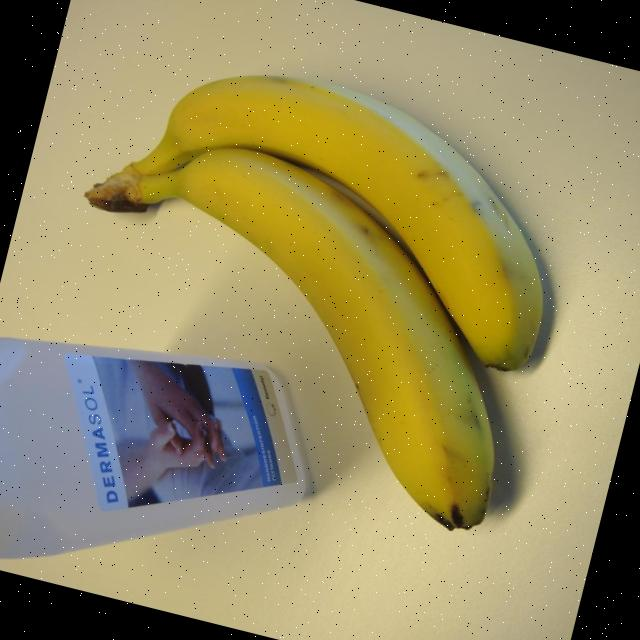banana: (87, 144, 499, 530), (89, 74, 555, 371)
